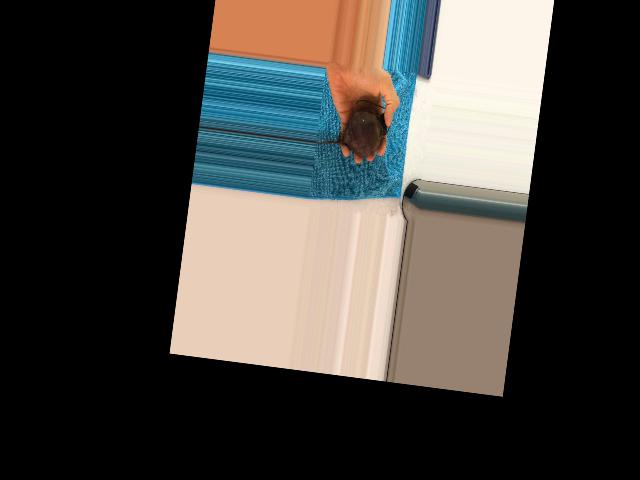beet: (314, 95, 393, 159)
